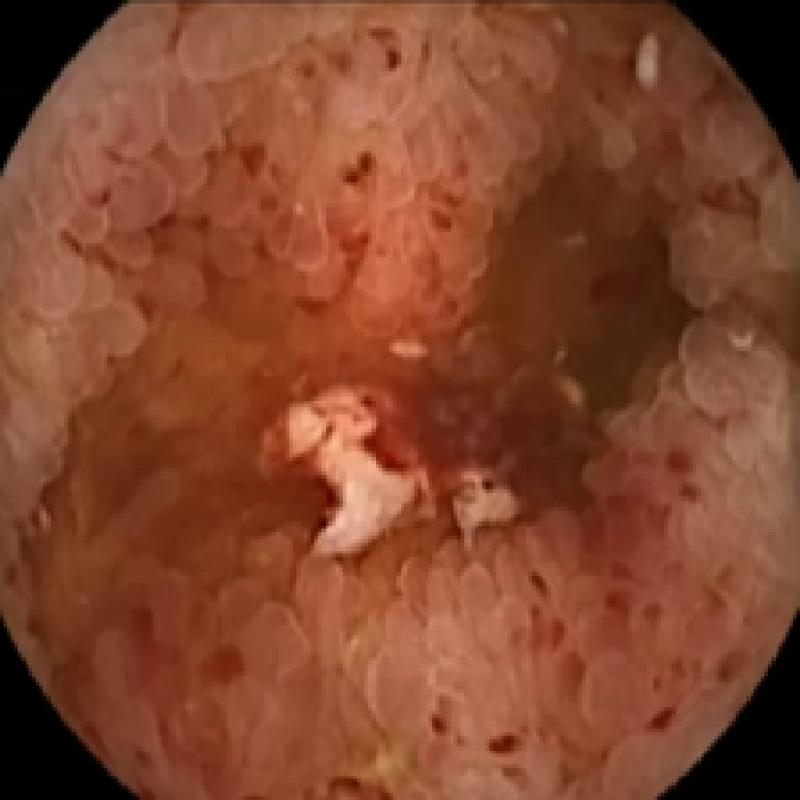bleeding: (264, 252, 652, 581), (187, 641, 248, 688), (344, 145, 374, 186), (486, 721, 518, 754), (368, 43, 407, 68)
